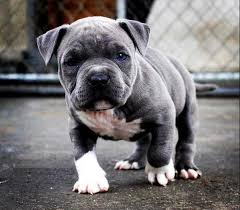Perro Pitbull: (32, 11, 225, 199)
